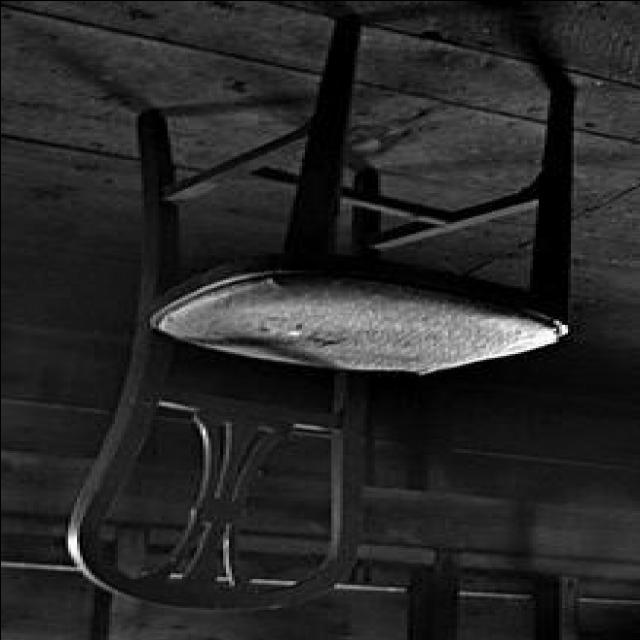chair: (66, 14, 578, 614)
